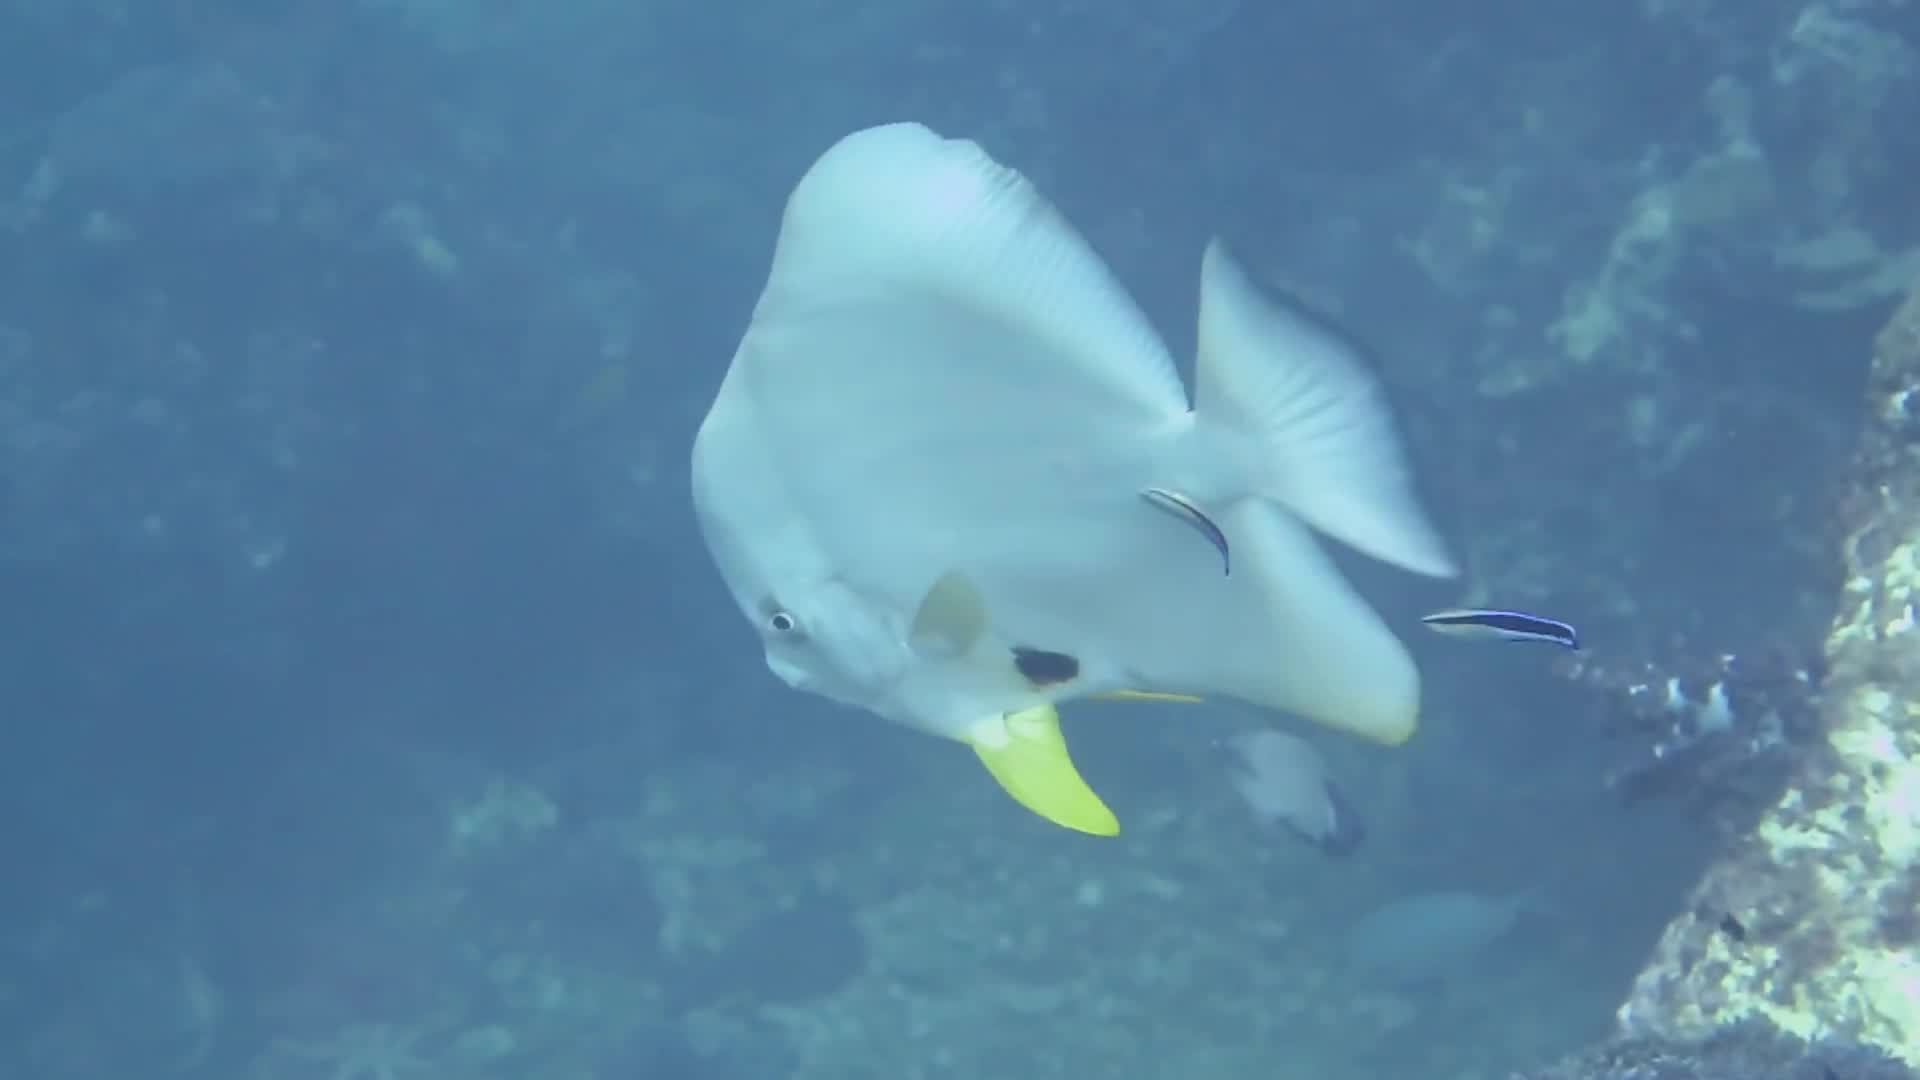Platax teira: (670, 59, 1462, 881)
